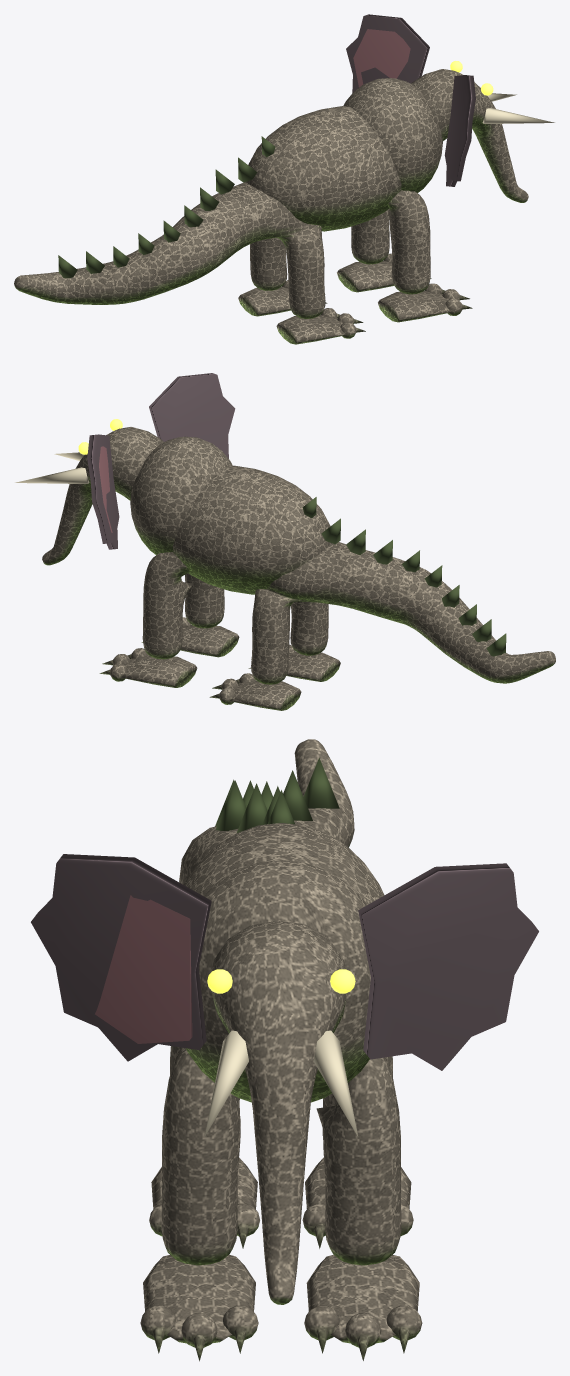
File: grootslang.glb
The picture shows the model from 3 angles, top to bottom: view 1: azimuth 30°, elevation 25°; view 2: azimuth 150°, elevation 25°; view 3: azimuth 270°, elevation 25°; orthographic projection. The views are drawn at different scales.
Parts seen in each view (by area): view 1: grootslang.001; view 2: grootslang.001; view 3: grootslang.001.
Boxes of the visible parts, x1,y1,x2,y2 form: grootslang.001: (14, 14, 554, 344); grootslang.001: (15, 373, 555, 710); grootslang.001: (31, 739, 538, 1361).
Size of the model in its own units: 4.64 by 2.1 by 1.99.
6 materials, 1 textured.
